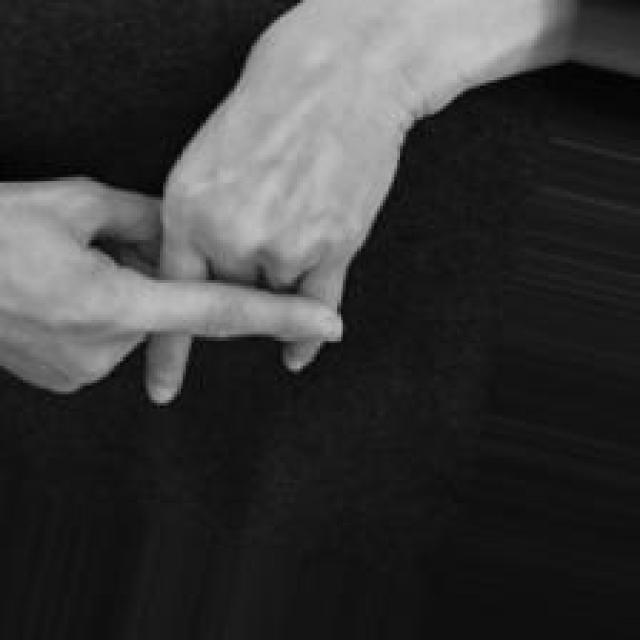H: (0, 0, 429, 409)
